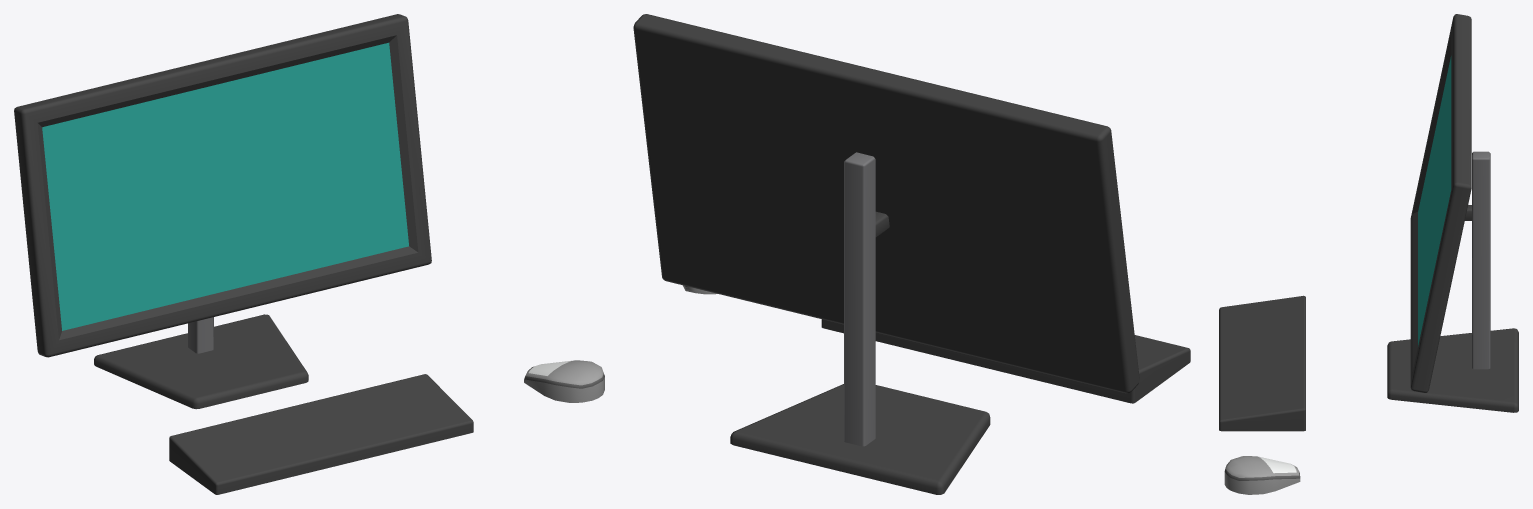
The model's file is Corwd_Computer_01.fbx.
3 renders of one model, left to right at view 1: azimuth 30°, elevation 25°; view 2: azimuth 150°, elevation 25°; view 3: azimuth 270°, elevation 25°, orthographic. The views are drawn at different scales.
Parts seen in each view (by area): view 1: Corwd_Computer_01; view 2: Corwd_Computer_01; view 3: Corwd_Computer_01.
Part boxes in pixels (left/top/right/bottom): Corwd_Computer_01: left=14, top=14, right=604, bottom=494; Corwd_Computer_01: left=633, top=14, right=1190, bottom=494; Corwd_Computer_01: left=1219, top=14, right=1518, bottom=494.
Size of the model in its own units: 150 by 93.78 by 92.29.
